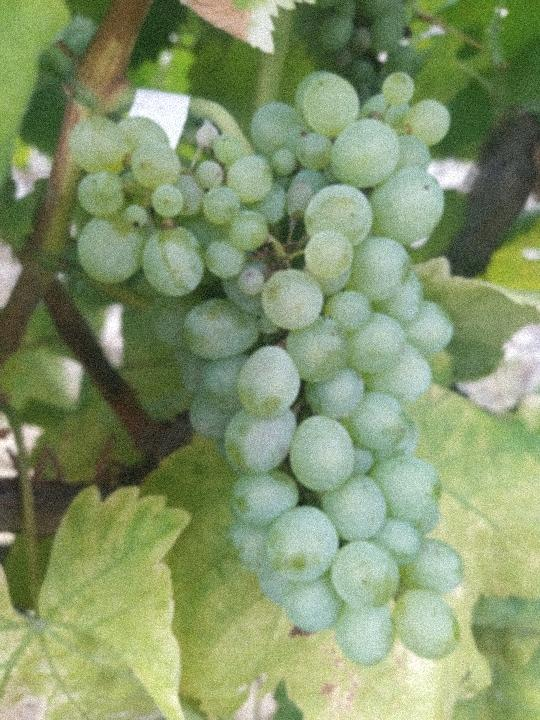grape: (66, 67, 468, 671)
